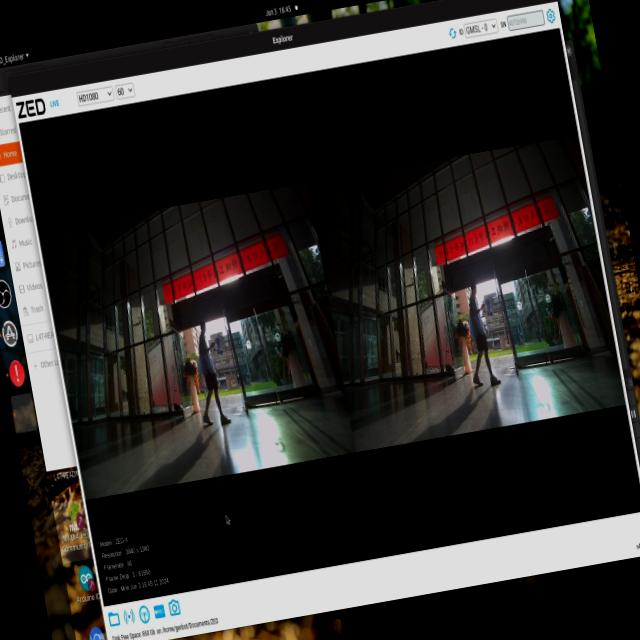blue: (476, 291, 498, 321), (213, 326, 226, 358)
